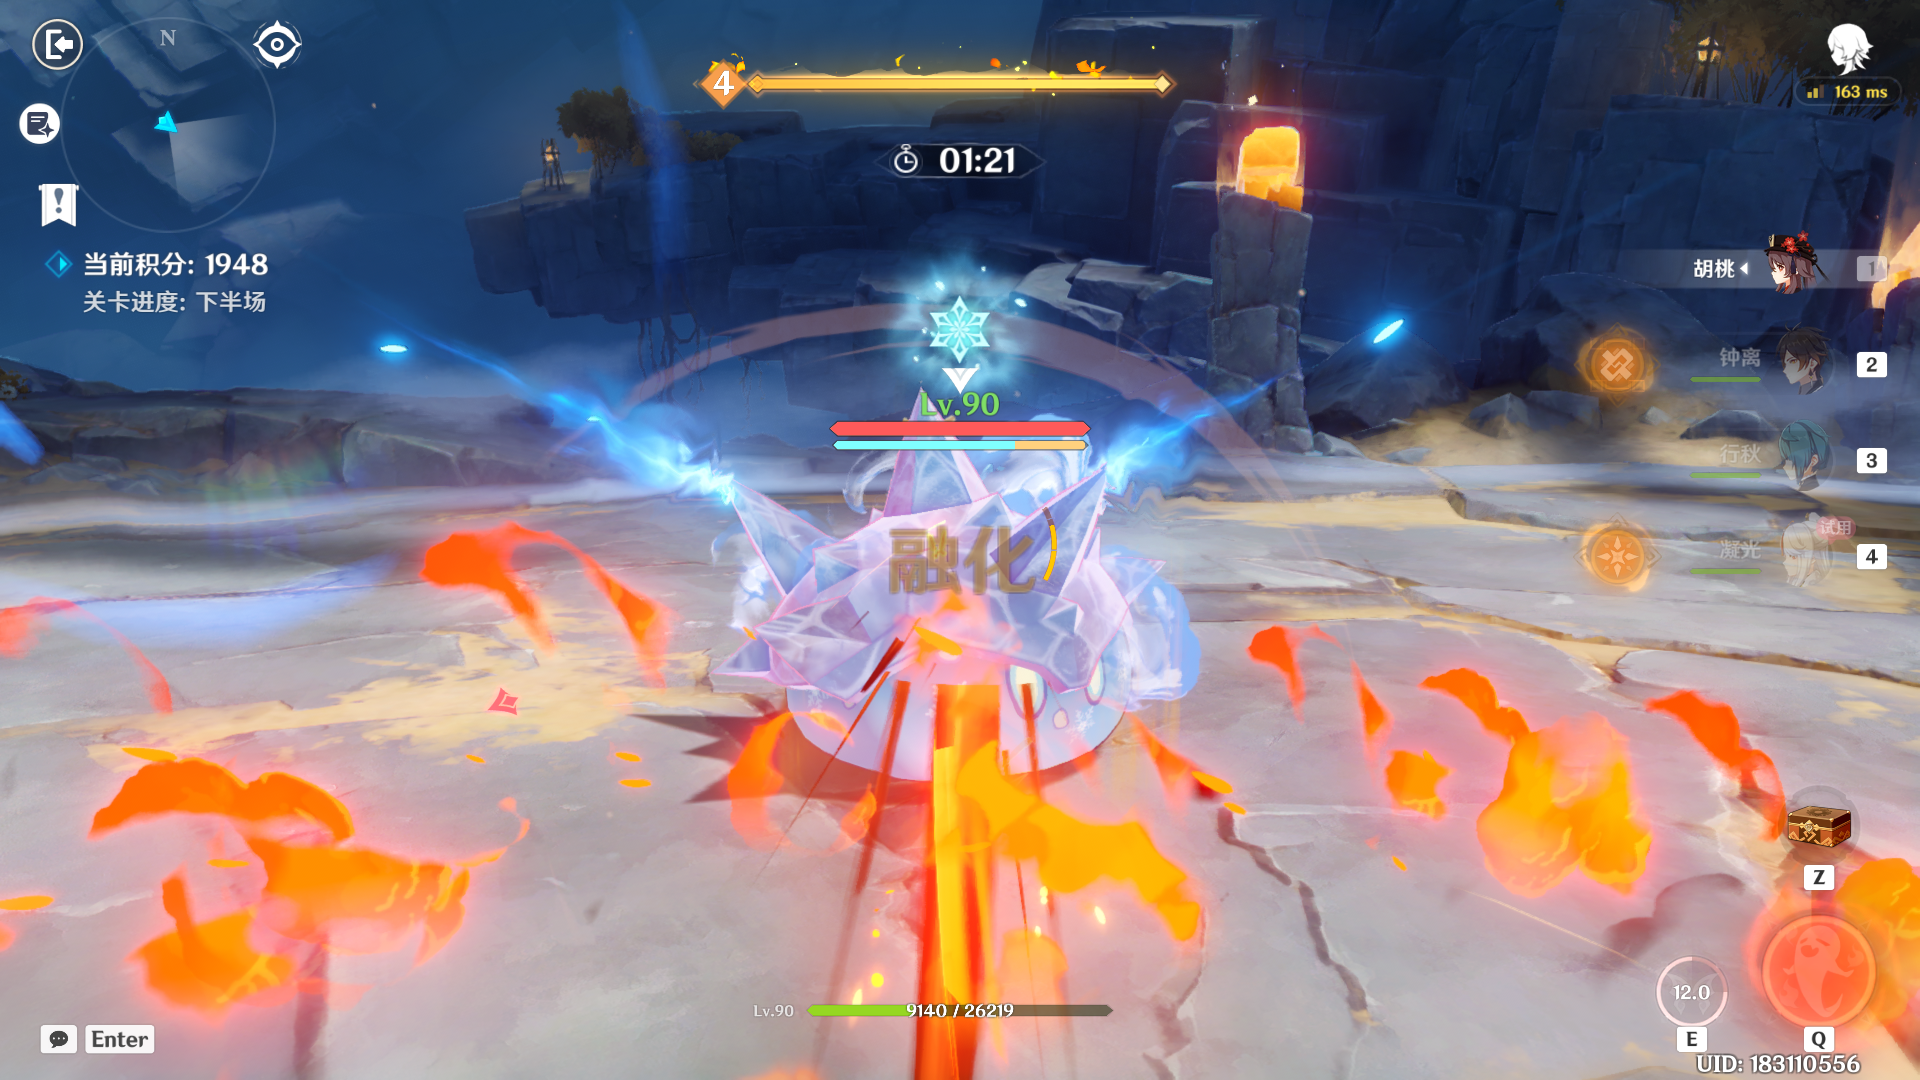slime: (723, 425, 1251, 803)
